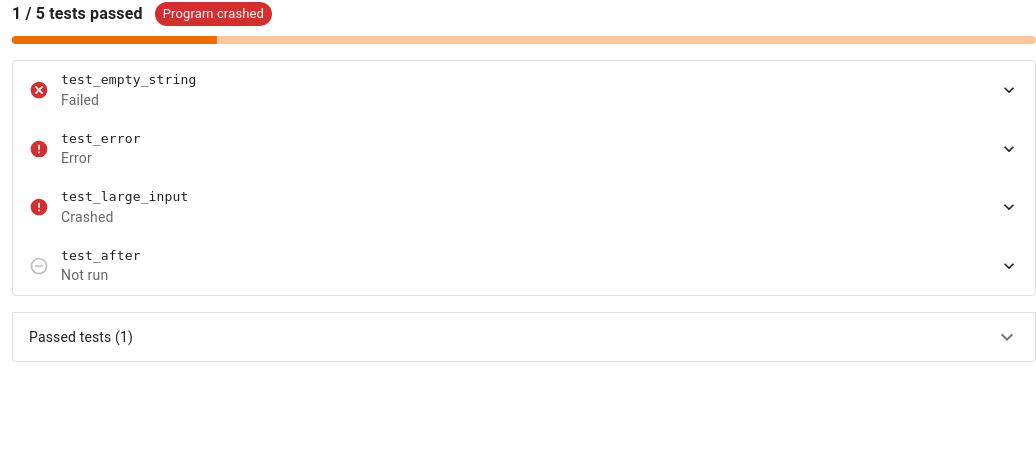
Test: TestReportView › expands a failed test into Expected | Got
The width and height of the screenshot is (1036, 474).
expect the text "Expected" is not shown: met
Click the text "test_empty_string" at (129, 80), box [61,72,196,87]
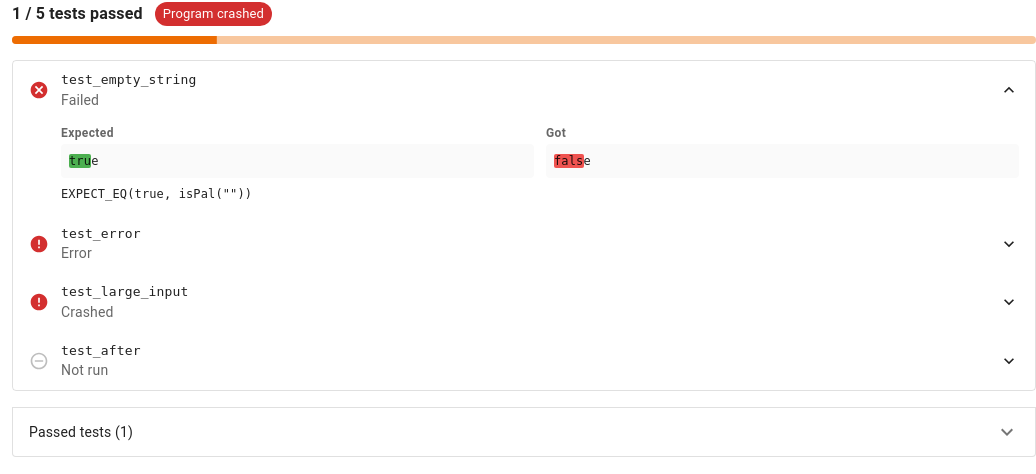
expect the element showing "true" is shown: met, box [61,144,534,178]
expect the element showing "false" is shown: met, box [546,144,1019,178]
